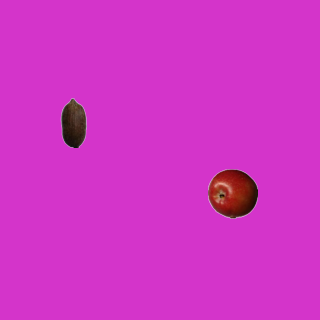Apple Braeburn: (207, 168, 257, 218)
Nut Pecan: (48, 97, 98, 147)
